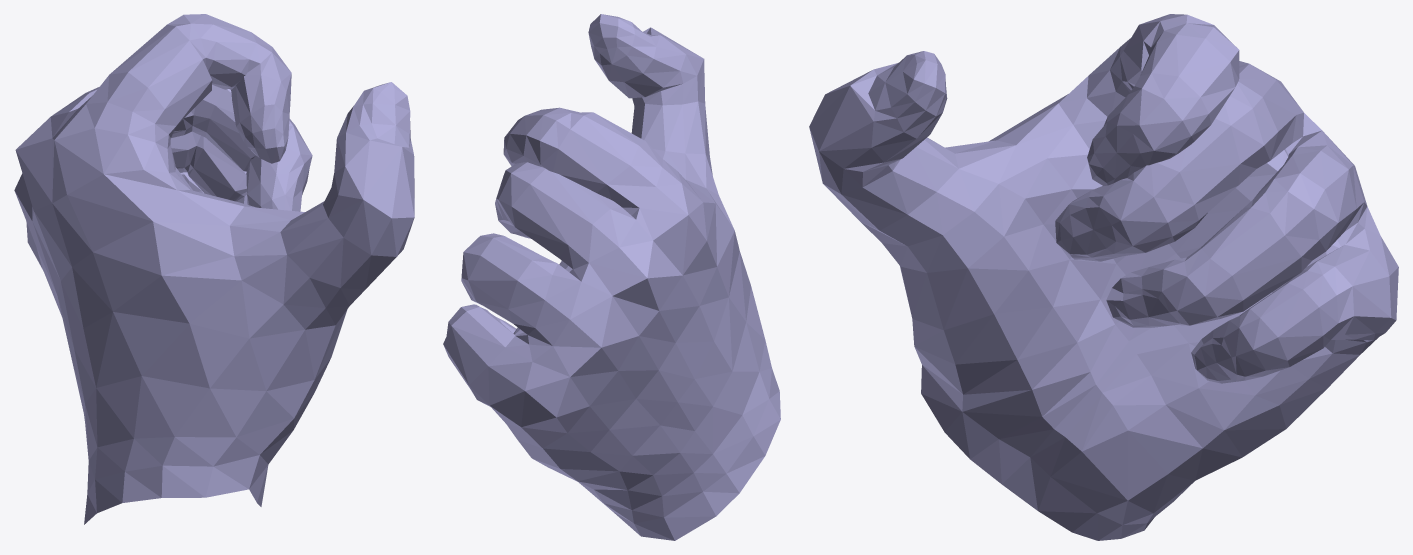
Rendered from frame_0012_source_000012_hand.glb.
The picture shows the model from 3 angles, left to right: view 1: azimuth 30°, elevation 25°; view 2: azimuth 150°, elevation 25°; view 3: azimuth 270°, elevation 25°; orthographic projection. The views are drawn at different scales.
Parts seen in each view (by area): view 1: world; view 2: world; view 3: world.
Part boxes in pixels (x1,y1,x2,y2): world: [14, 14, 414, 524]; world: [443, 14, 780, 540]; world: [809, 14, 1398, 540].
Size of the model in its own units: 0.0641 by 0.1169 by 0.1139.
